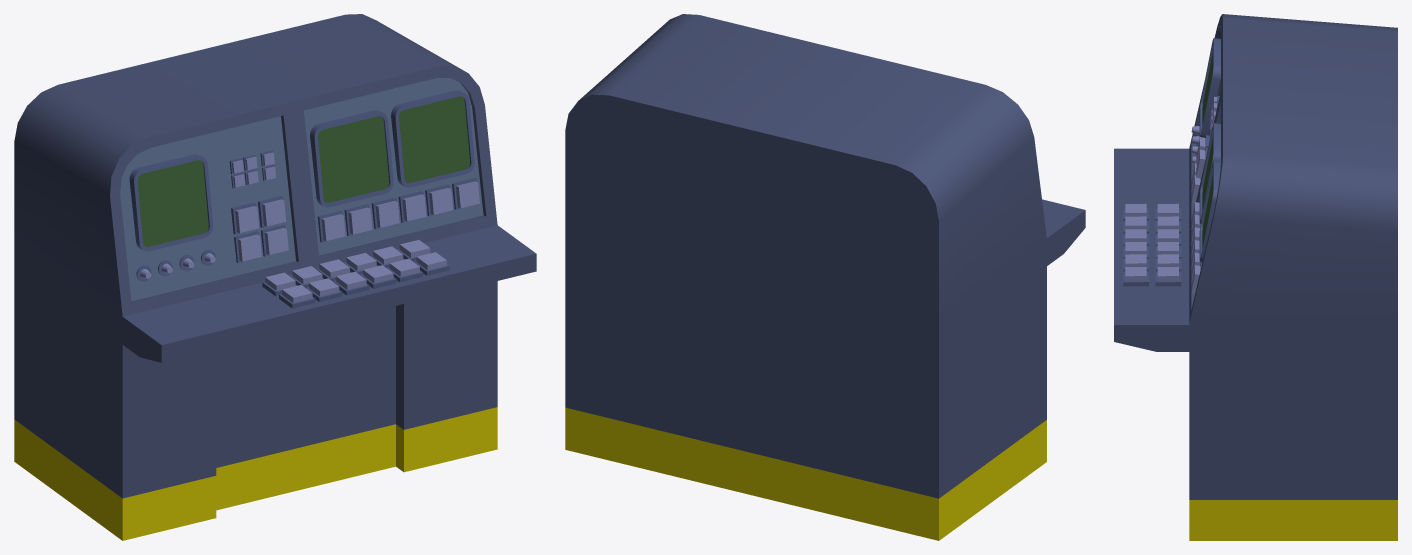
Rendered from ORDIINGE.fbx.
3 views of the same model, side by side, from view 1: azimuth 30°, elevation 25°; view 2: azimuth 150°, elevation 25°; view 3: azimuth 270°, elevation 25° (orthographic). The views are drawn at different scales.
Visible parts, largest first — view 1: Cube.183, Cube.182, Cube.184, Cube.171, Cylinder.080, Cube.181, Cube.180, Cube.187, Cube.185, Cube.186, Cube.188, Cube.189 (+3 smaller); view 2: Cube.183; view 3: Cube.183, Cube.182, Cube.184, Cube.171, Cube.191, Cube.202, Cube.195, Cube.198, Cube.196, Cube.192, Cube.193, Cube.194 (+3 smaller).
Part boxes in pixels (bbox=[...]): Cube.183: bbox=[14, 14, 536, 540]; Cube.182: bbox=[129, 154, 213, 251]; Cube.184: bbox=[391, 90, 474, 187]; Cube.171: bbox=[310, 110, 393, 207]; Cylinder.080: bbox=[136, 249, 215, 281]; Cube.181: bbox=[231, 202, 259, 234]; Cube.180: bbox=[258, 196, 286, 227]; Cube.187: bbox=[398, 191, 426, 222]; Cube.185: bbox=[317, 210, 345, 242]; Cube.186: bbox=[344, 204, 372, 235]; Cube.188: bbox=[371, 197, 399, 229]; Cube.189: bbox=[425, 184, 452, 216]; Cube.183: bbox=[565, 14, 1085, 540]; Cube.183: bbox=[1114, 14, 1397, 540]; Cube.182: bbox=[1199, 38, 1220, 138]; Cube.184: bbox=[1199, 161, 1220, 262]; Cube.171: bbox=[1199, 123, 1220, 224]; Cube.191: bbox=[1155, 267, 1181, 286]; Cube.202: bbox=[1123, 267, 1148, 286]; Cube.195: bbox=[1155, 216, 1181, 233]; Cube.198: bbox=[1123, 216, 1148, 233]; Cube.196: bbox=[1155, 203, 1181, 220]; Cube.192: bbox=[1155, 254, 1181, 271]; Cube.193: bbox=[1155, 229, 1181, 246]; Cube.194: bbox=[1155, 242, 1181, 258].
Size of the model in its own units: 200 by 194 by 136.
